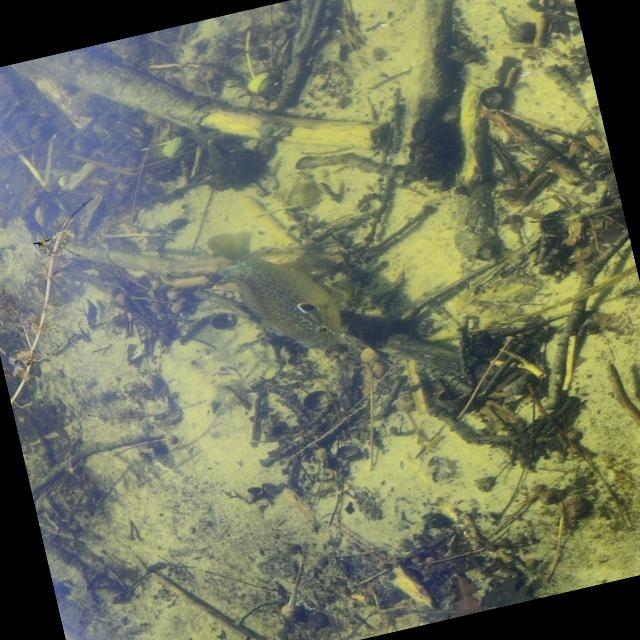Gunes Levregi: (200, 203, 372, 372)
